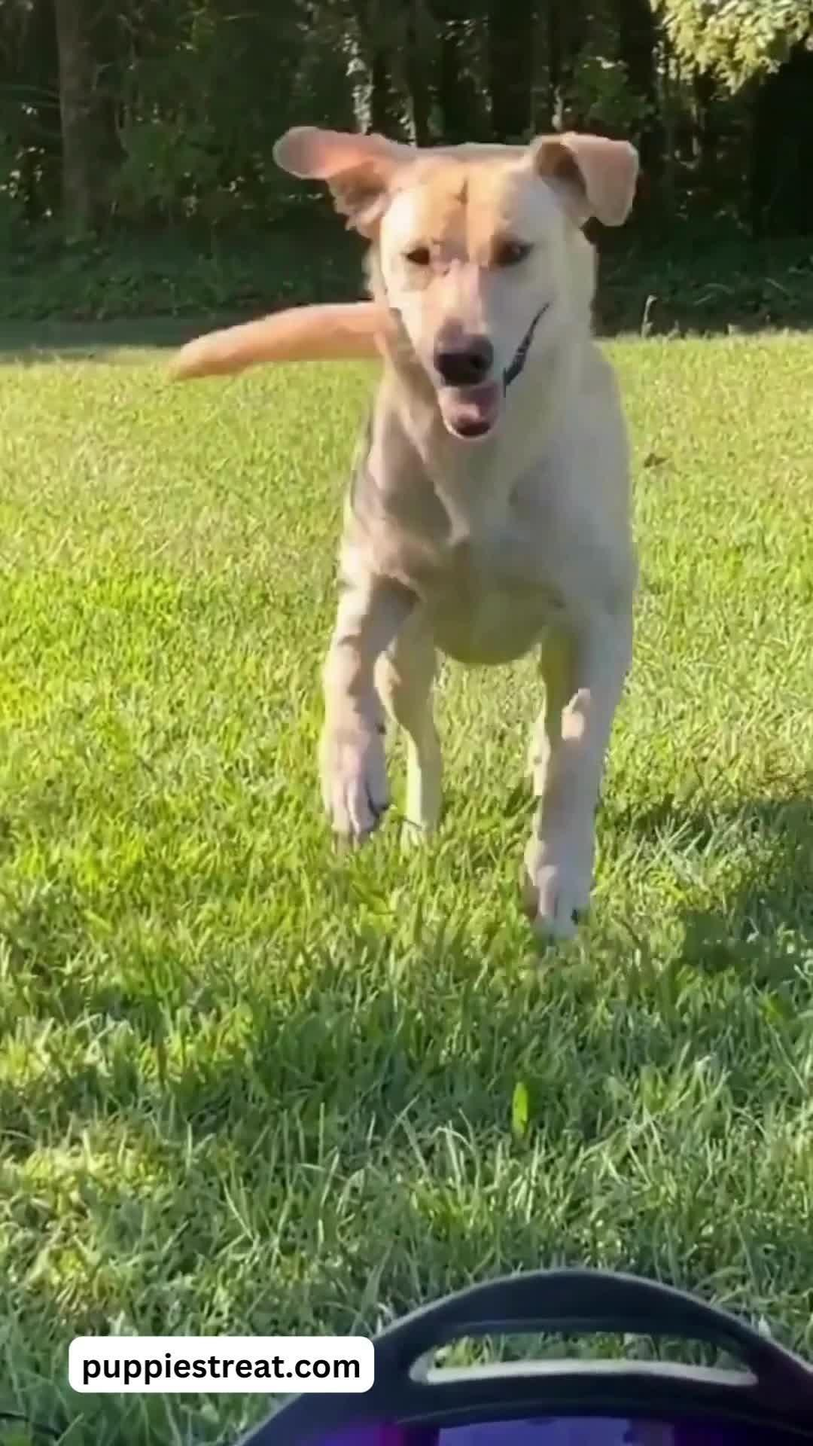adult_dog: (168, 123, 643, 945)
